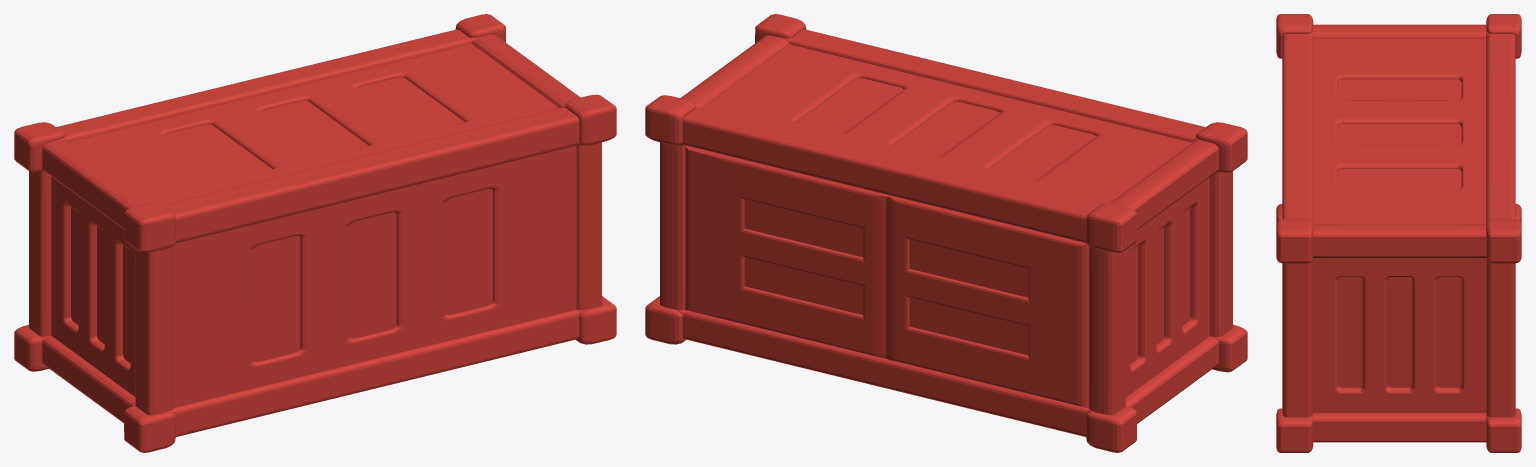
Rendered from cargo_red.fbx.
The picture shows the model from 3 angles, left to right: view 1: azimuth 30°, elevation 25°; view 2: azimuth 150°, elevation 25°; view 3: azimuth 270°, elevation 25°; orthographic projection. The views are drawn at different scales.
Visible parts, largest first — view 1: Cube.011; view 2: Cube.011; view 3: Cube.011.
Boxes of the visible parts, <box> form: Cube.011: <box>14,14,616,452</box>; Cube.011: <box>645,14,1247,452</box>; Cube.011: <box>1276,14,1521,452</box>.
Size of the model in its own units: 3.65 by 1.71 by 1.71.
